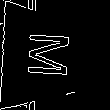M_E: (30, 33, 81, 82)
